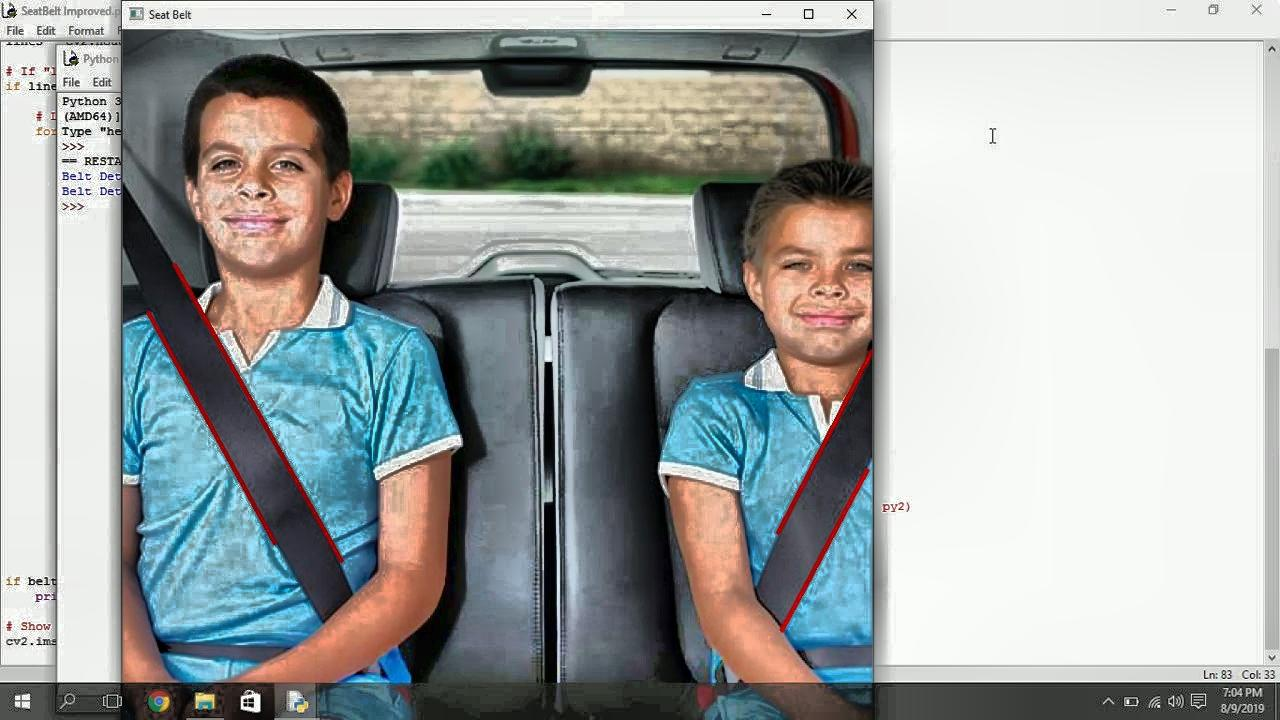seatbelt: (113, 185, 393, 679), (712, 344, 868, 681)
